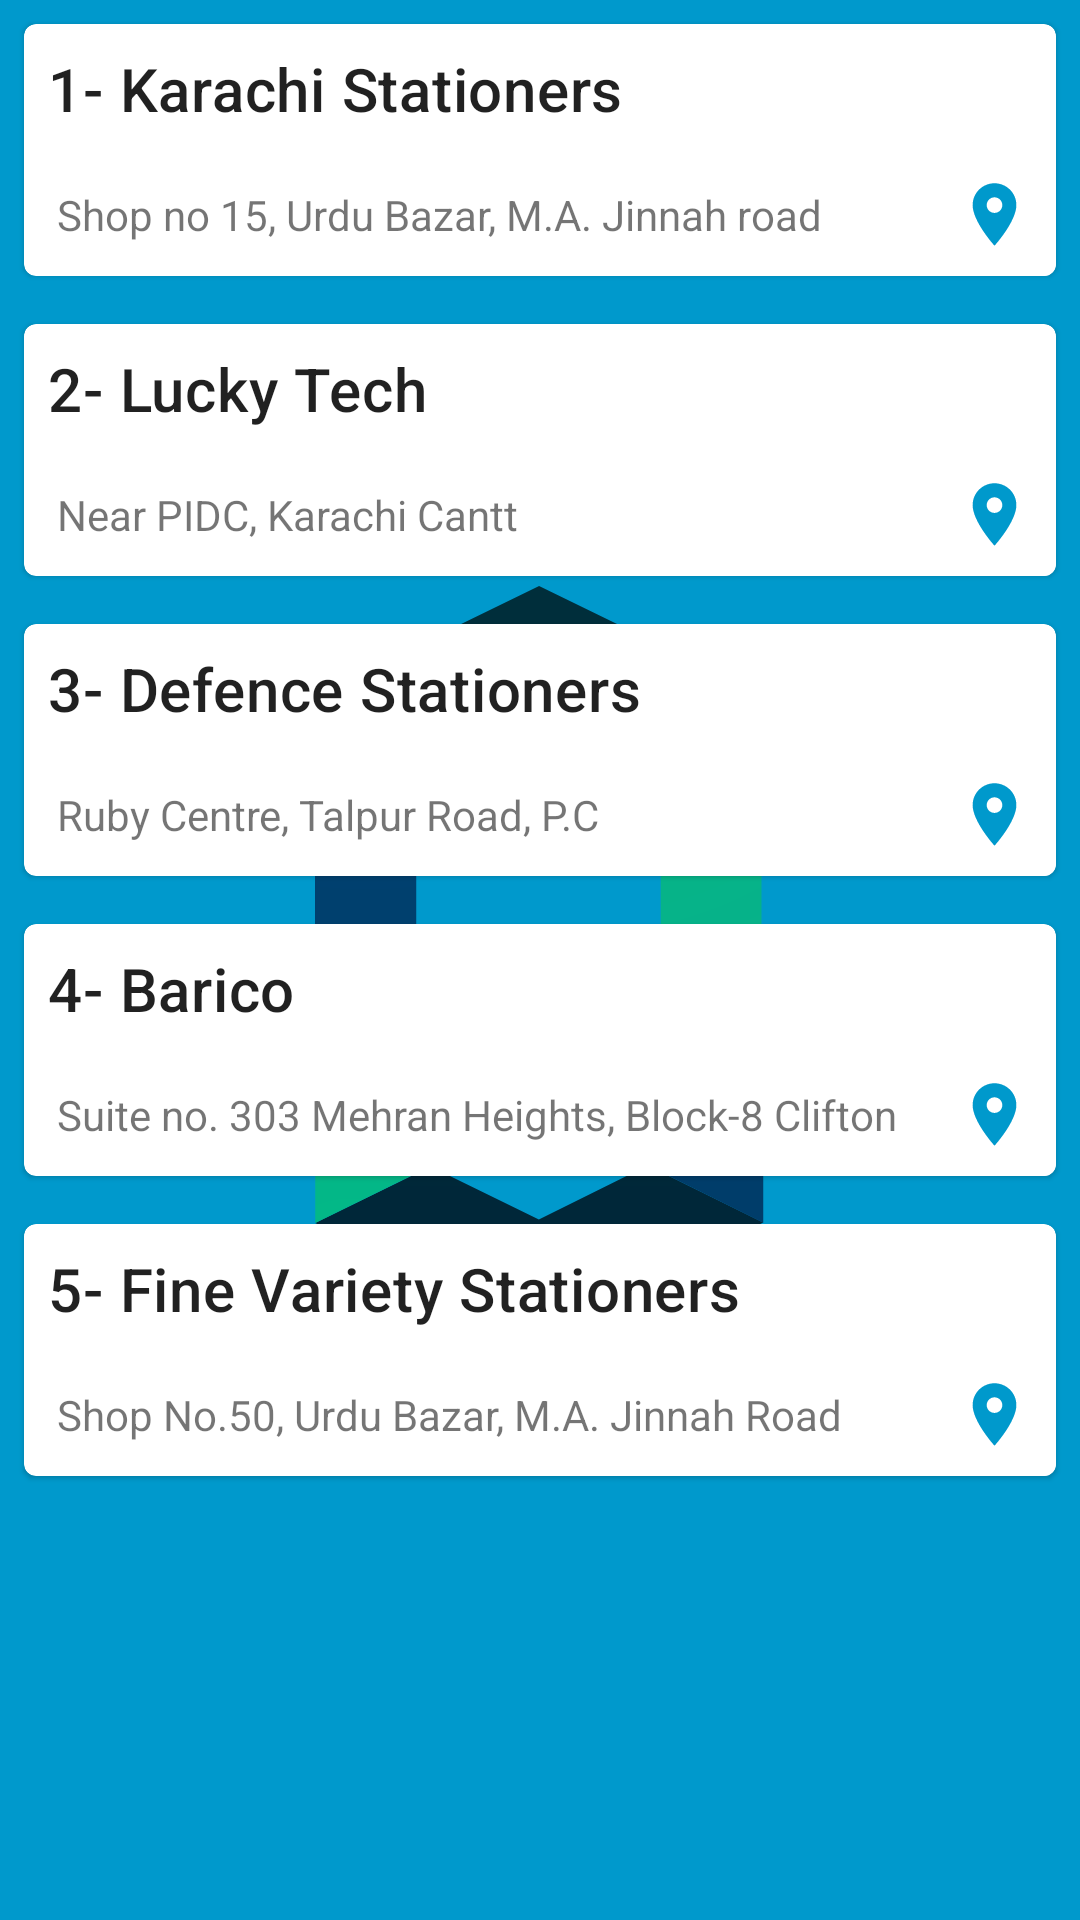

Named icons in this screenshot (1080w x 1920h) and their centers, [x,y]:
location: [994,214], [994,514], [994,814], [994,1114], [994,1414]
